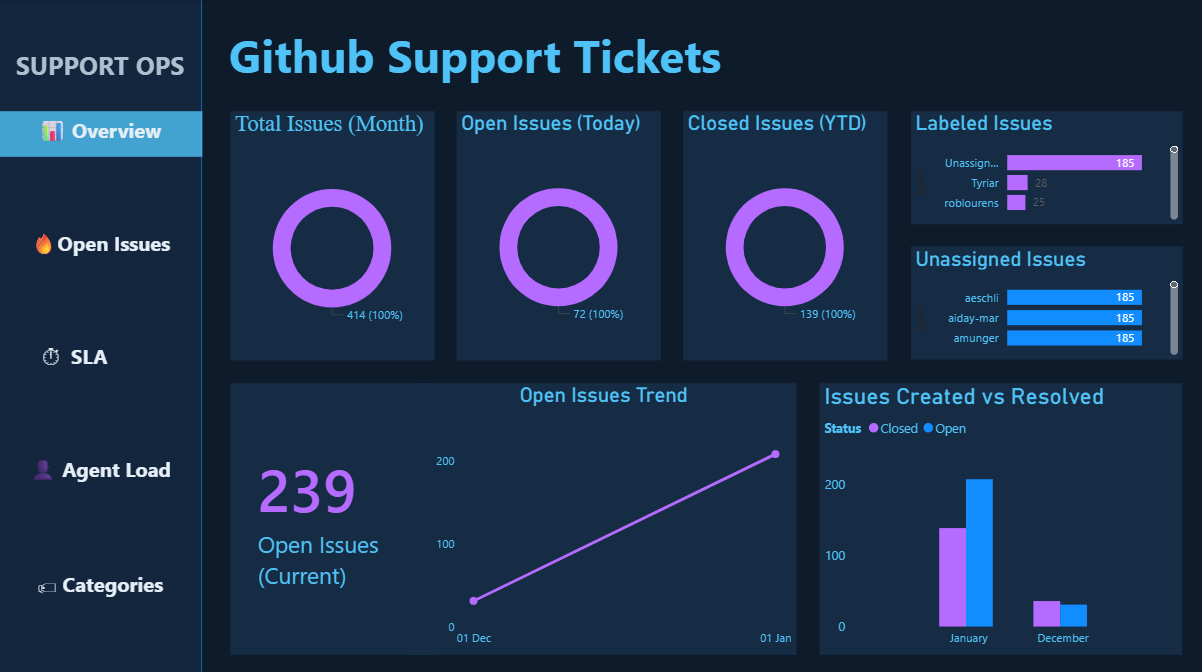

The dashboard page shown, as its layout file describes it:
{"tool":"powerbi","page":{"name":"Page 1","canvas":[1280,720],"ordinal":0},"visuals":[{"type":"shape","box":[0,0,216,720],"z":0},{"type":"donutChart","title":"Total Issues (Month)","fields":{"Y":["github_support_tickets.Total Issues"]},"box":[246,119.6,216,264],"z":1000},{"type":"donutChart","title":"Open Issues (Today)","fields":{"Y":["github_support_tickets.Open Issues Today"]},"box":[486,119.6,216,264],"z":2000},{"type":"donutChart","title":"Closed Issues (YTD)","fields":{"Y":["github_support_tickets.Closed Issues YTD"]},"box":[726,119.6,216,264],"z":3000},{"type":"clusteredBarChart","title":"Labeled Issues","fields":{"Y":["github_support_tickets.Labeled Issues"],"Category":["github_support_tickets.Agent"]},"box":[966,119.6,288,120],"z":4000},{"type":"clusteredBarChart","title":"Unassigned Issues","fields":{"Y":["github_support_tickets.Unassigned Issues"],"Category":["github_support_tickets.Agent"]},"box":[966,263.6,288,120],"z":5000},{"type":"lineChart","title":"Open Issues Trend","fields":{"Category":["github_support_tickets.Ticket_Date.Variation.Date Hierarchy.Year","github_support_tickets.Ticket_Date.Variation.Date Hierarchy.Quarter","github_support_tickets.Ticket_Date.Variation.Date Hierarchy.Month","github_support_tickets.Ticket_Date.Variation.Date Hierarchy.Day"],"Y":["github_support_tickets.Open Issues"]},"box":[438,407.6,408,288],"z":6000},{"type":"cardVisual","fields":{"Data":["github_support_tickets.Open Issues (Current)"]},"box":[246,407.6,216,288],"z":7000},{"type":"clusteredColumnChart","title":"Issues Created vs Resolved","fields":{"Category":["github_support_tickets.Ticket_Date.Variation.Date Hierarchy.Month"],"Y":["github_support_tickets.Total Issues"],"Series":["github_support_tickets.Status"]},"box":[870,407.6,384,288],"z":8000},{"type":"textbox","box":[240,24,1008,96],"z":9000},{"type":"textbox","box":[0,48,216,72],"z":10000},{"type":"textbox","box":[0,120,216,48],"z":11000},{"type":"textbox","box":[0,240,216,72],"z":12000},{"type":"textbox","box":[0,360,168,48],"z":12001},{"type":"textbox","box":[0,480,216,48],"z":12002},{"type":"textbox","box":[0,600,216,48],"z":12003}]}

Visuals, with their boxes on the page's 1280x720 design canvas (x1, y1, x2, y2). These are canvas units, not pixel positions in the 1202x672 screenshot, which may show the page scaled, cropped or inside an application window:
shape: <bbox>0, 0, 216, 720</bbox>
"Total Issues (Month)" donutChart: <bbox>246, 120, 462, 384</bbox>
"Open Issues (Today)" donutChart: <bbox>486, 120, 702, 384</bbox>
"Closed Issues (YTD)" donutChart: <bbox>726, 120, 942, 384</bbox>
"Labeled Issues" clusteredBarChart: <bbox>966, 120, 1254, 240</bbox>
"Unassigned Issues" clusteredBarChart: <bbox>966, 264, 1254, 384</bbox>
"Open Issues Trend" lineChart: <bbox>438, 408, 846, 696</bbox>
cardVisual - github_support_tickets.Open Issues (Current): <bbox>246, 408, 462, 696</bbox>
"Issues Created vs Resolved" clusteredColumnChart: <bbox>870, 408, 1254, 696</bbox>
textbox: <bbox>240, 24, 1248, 120</bbox>
textbox: <bbox>0, 48, 216, 120</bbox>
textbox: <bbox>0, 120, 216, 168</bbox>
textbox: <bbox>0, 240, 216, 312</bbox>
textbox: <bbox>0, 360, 168, 408</bbox>
textbox: <bbox>0, 480, 216, 528</bbox>
textbox: <bbox>0, 600, 216, 648</bbox>
